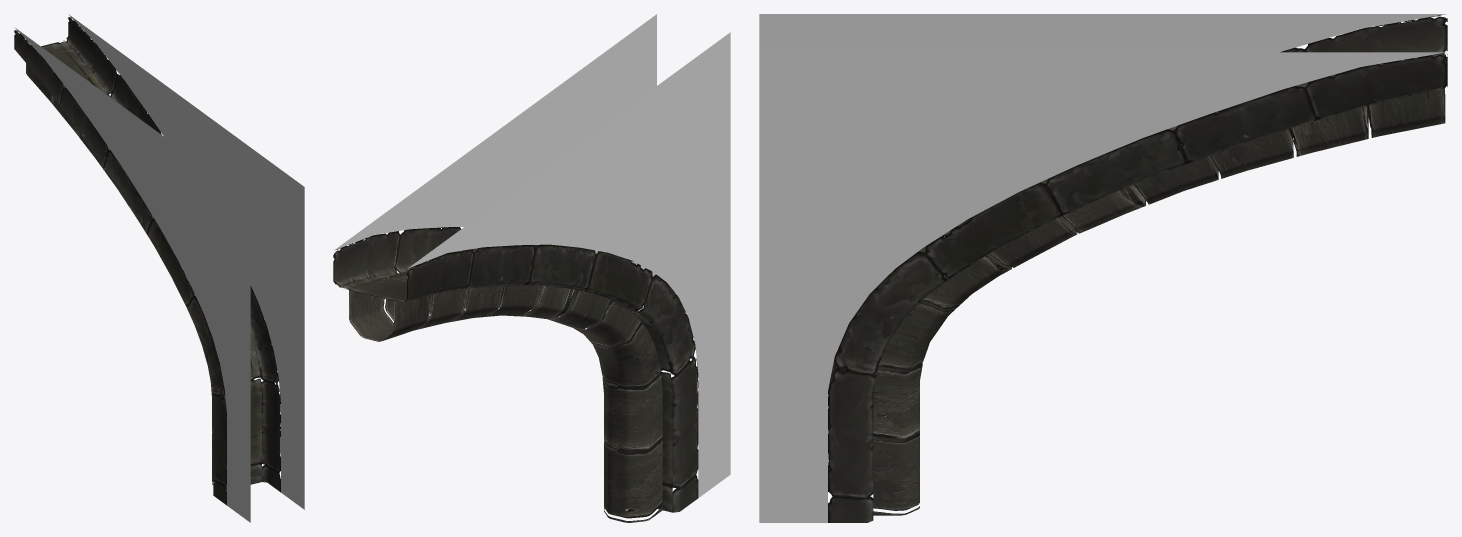
3 views of the same model, side by side, from view 1: azimuth 30°, elevation 25°; view 2: azimuth 150°, elevation 25°; view 3: azimuth 270°, elevation 25° (orthographic). The views are drawn at different scales.
Parts seen in each view (by area): view 1: SM_Greathall_Wall_8x10_07_LOD0; view 2: SM_Greathall_Wall_8x10_07_LOD0; view 3: SM_Greathall_Wall_8x10_07_LOD0.
Part boxes in pixels (bbox=[...]): SM_Greathall_Wall_8x10_07_LOD0: bbox=[14, 14, 304, 522]; SM_Greathall_Wall_8x10_07_LOD0: bbox=[333, 14, 730, 522]; SM_Greathall_Wall_8x10_07_LOD0: bbox=[759, 14, 1447, 522].
Bounding box in the file's own units: 1 × 5.73 × 7.6.
Materials: 3 (2 with a texture image).
